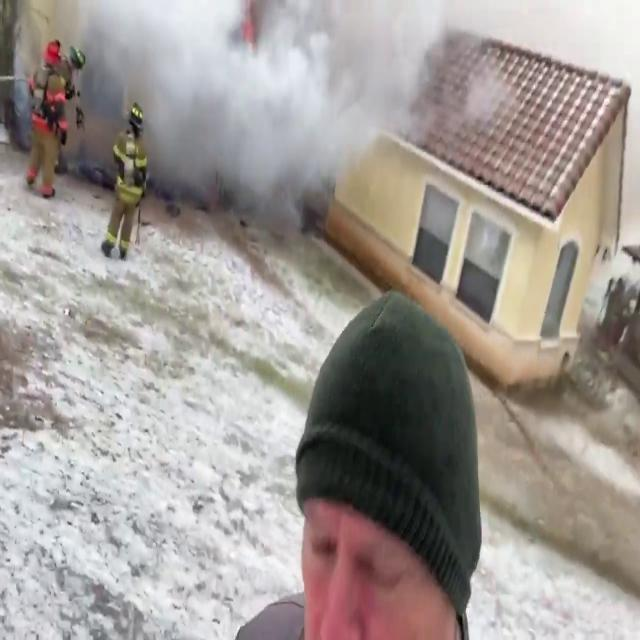Smoke: (55, 0, 491, 238)
